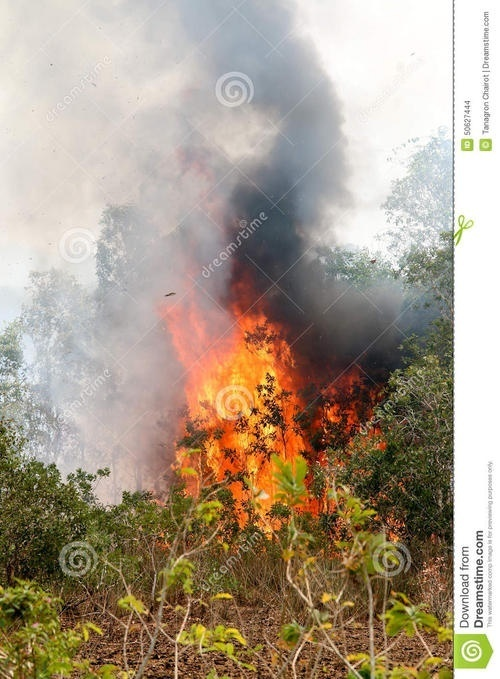fire: (166, 286, 385, 549)
